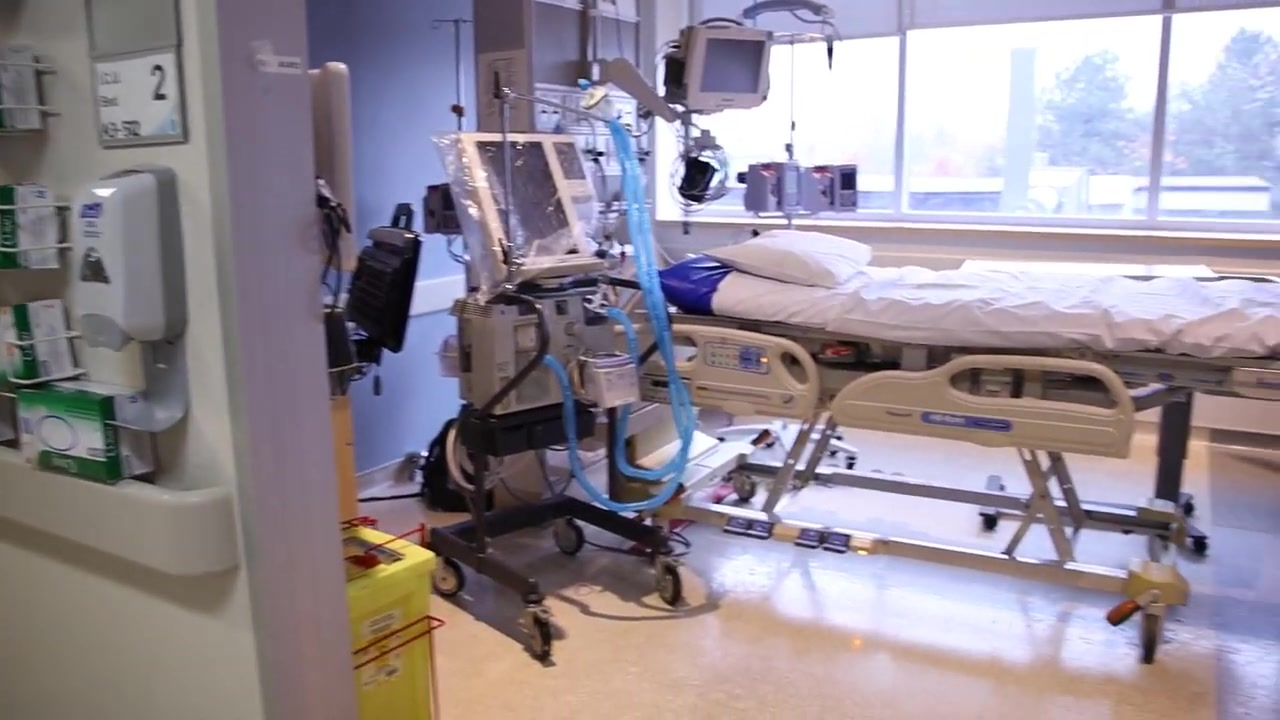bedrail: (829, 353, 1134, 460), (616, 321, 818, 424)
bedside_monitor: (690, 24, 773, 110)
breathing_tube: (532, 92, 694, 520)
dispenser: (73, 162, 191, 434), (17, 392, 154, 481), (1, 302, 72, 388), (1, 183, 68, 270)
hallway_assist_bar: (1, 443, 240, 577)
hospital_bed: (613, 228, 1280, 665)
infusion_pump: (745, 158, 802, 215), (800, 161, 859, 215), (419, 179, 464, 237)
iv_pole: (431, 17, 476, 130)
ventilator: (458, 132, 682, 413)
waste_bin: (343, 516, 439, 720)
